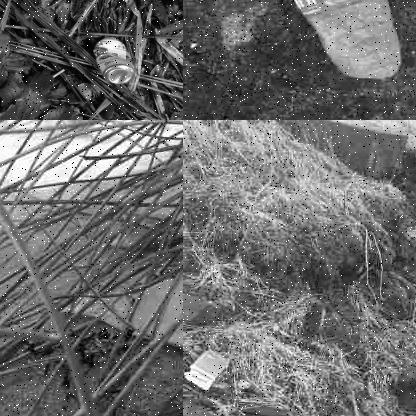cardboard: (183, 343, 231, 393)
metal: (88, 34, 140, 90)
plastic: (63, 276, 182, 361), (287, 0, 404, 81)
